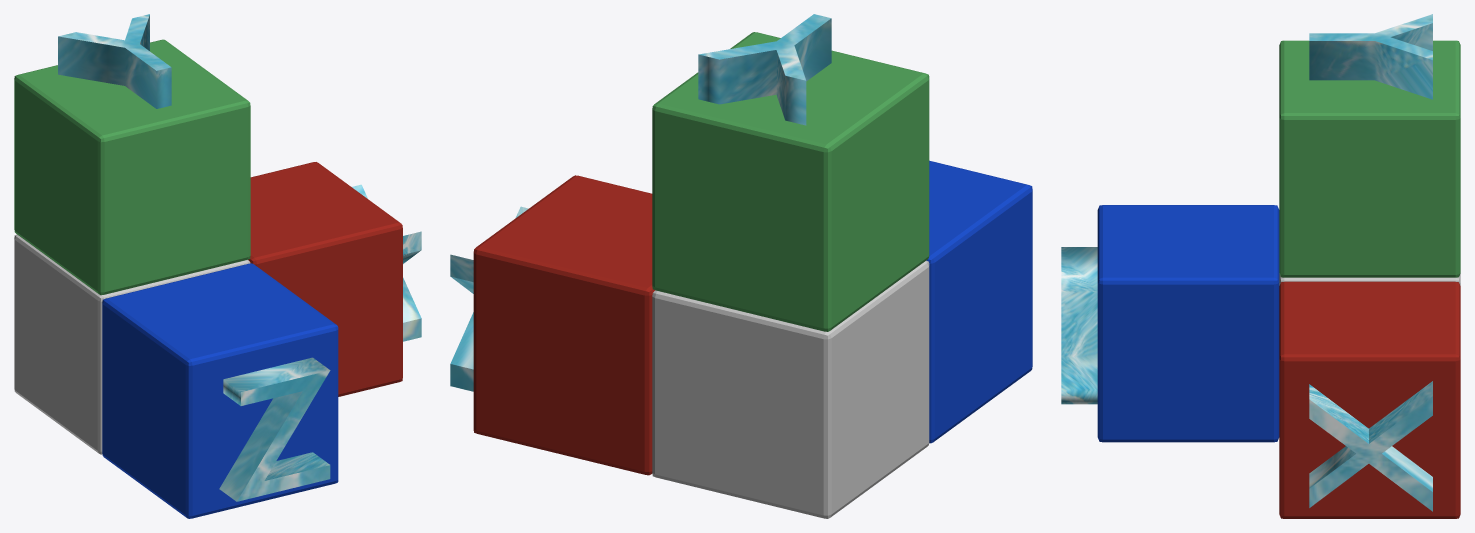
File: XYZ_Blocks_textured.obj
3 renders of one model, left to right at view 1: azimuth 30°, elevation 25°; view 2: azimuth 150°, elevation 25°; view 3: azimuth 270°, elevation 25°, orthographic. The views are drawn at different scales.
Parts seen in each view (by area): view 1: cubey, cubez, cubex, cube_center, textz, texty, textx; view 2: cubey, cube_center, cubex, cubez, texty, textx; view 3: cubez, cubey, cubex, textx, texty, textz, cube_center.
Boxes of the visible parts, x1,y1,x2,y2 form: cubey: (14,39,250,295); cubez: (102,263,338,518); cubex: (248,162,402,396); cube_center: (14,234,250,454); textz: (219,357,330,501); texty: (58,14,171,108); textx: (352,184,421,341); cubey: (652,32,929,331); cube_center: (652,260,929,518); cubex: (473,175,654,475); cubez: (926,160,1032,443); texty: (698,14,831,125); textx: (450,206,528,391); cubez: (1097,205,1279,442); cubey: (1279,40,1460,277); cubex: (1279,281,1460,518); textx: (1309,381,1432,511); texty: (1309,14,1432,99); textz: (1061,247,1097,404); cube_center: (1279,274,1460,285).
Size of the model in its own units: 2.17 by 2.21 by 2.16.
7 materials, 3 textured.
